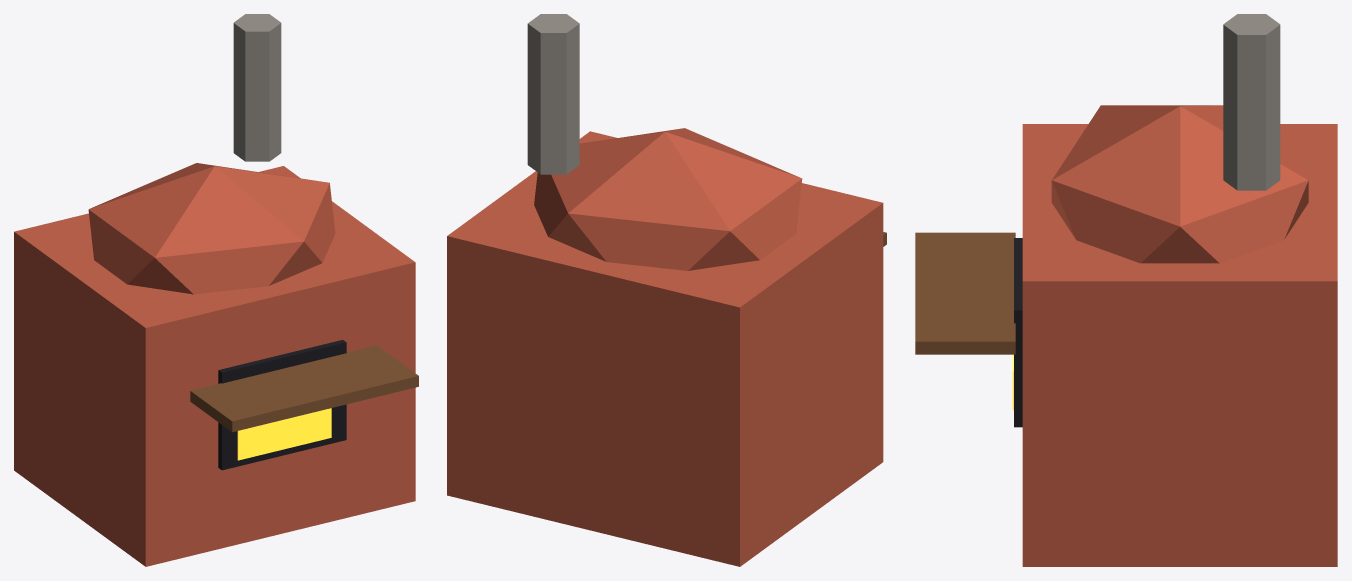
File: machine_oven.glb
The picture shows the model from 3 angles, left to right: view 1: azimuth 30°, elevation 25°; view 2: azimuth 150°, elevation 25°; view 3: azimuth 270°, elevation 25°; orthographic projection. The views are drawn at different scales.
Visible parts, largest first — view 1: machine_oven; view 2: machine_oven; view 3: machine_oven.
Boxes of the visible parts, x1=… form: machine_oven: x1=14, y1=14, x2=418, y2=566; machine_oven: x1=447, y1=14, x2=886, y2=566; machine_oven: x1=915, y1=14, x2=1337, y2=566.
Size of the model in its own units: 1.3 by 1.95 by 1.48.
